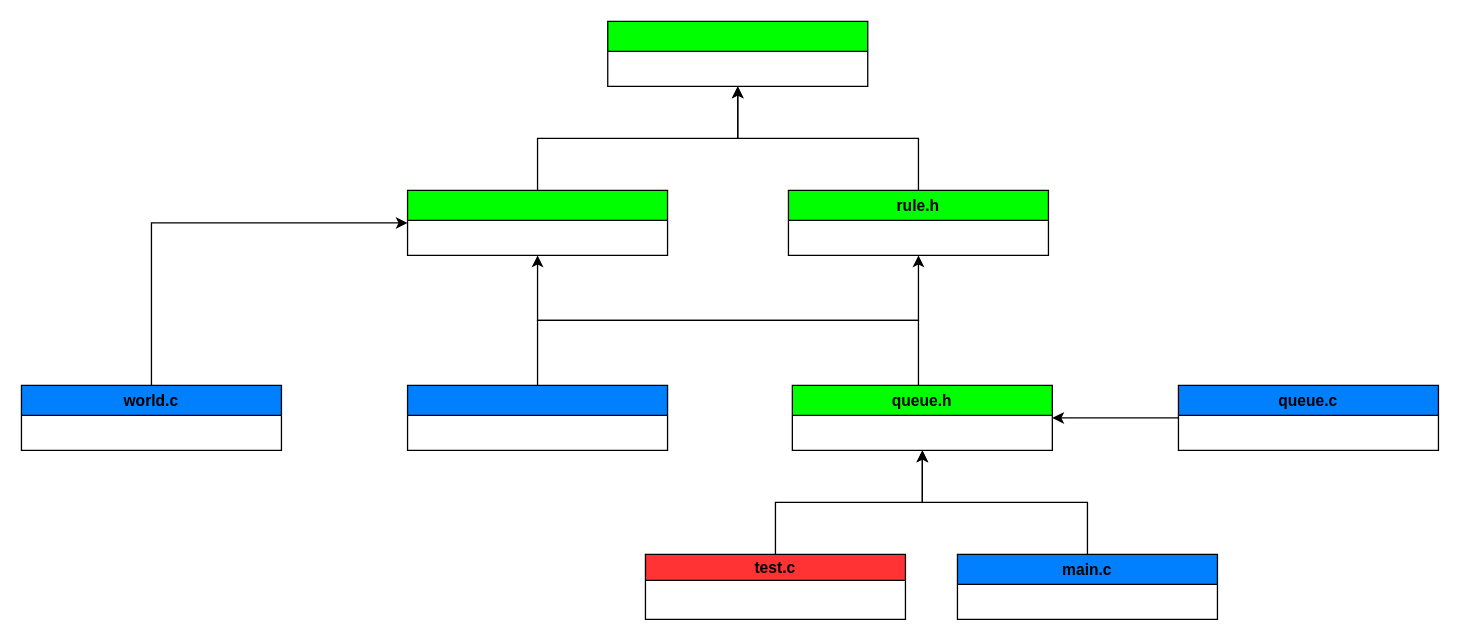
Image size: 1460x641. Some labels were removed from this diagram. The centre of each missing label's shape, as x and y in pixels:
rule.c: [537,417]
world.h: [737,53]
worldalgo.h: [537,222]
